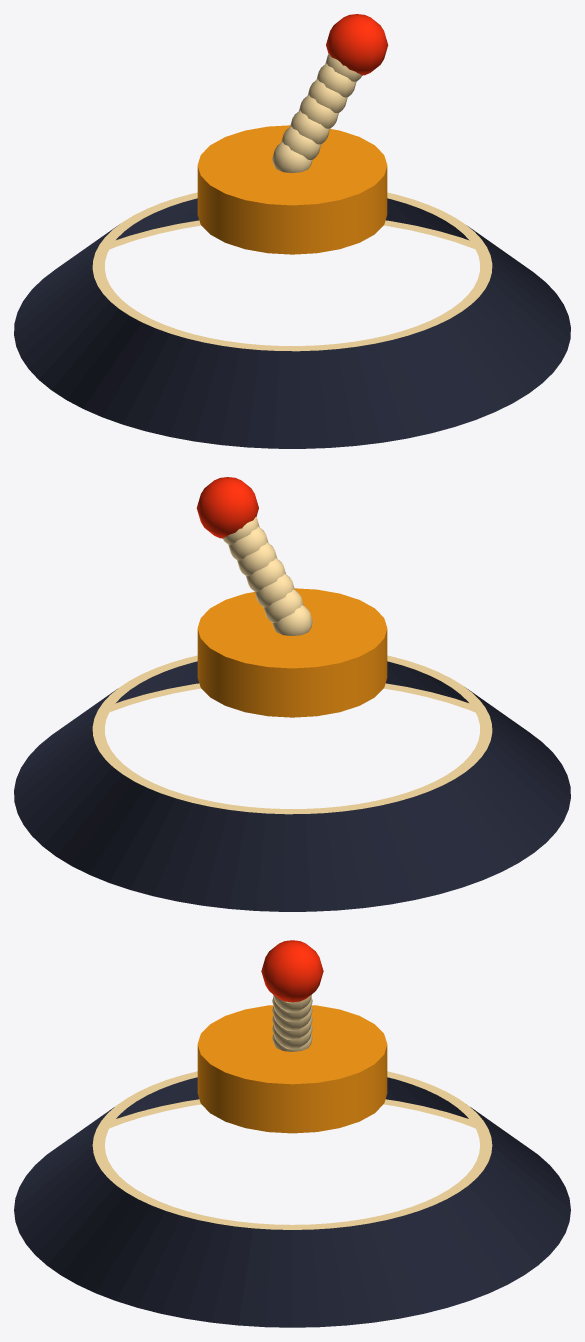
Rendered from copy_band_bomb.obj.
3 renders of one model, top to bottom at view 1: azimuth 30°, elevation 25°; view 2: azimuth 150°, elevation 25°; view 3: azimuth 270°, elevation 25°, orthographic.
Parts seen in each view (by area): view 1: copy_band_bomb; view 2: copy_band_bomb; view 3: copy_band_bomb.
Part boxes in pixels (box(x1,y1,x2,y2)): copy_band_bomb: box(14, 14, 570, 448); copy_band_bomb: box(14, 477, 570, 911); copy_band_bomb: box(14, 940, 570, 1327).
Size of the model in its own units: 0.8218 by 0.486 by 0.8218.
